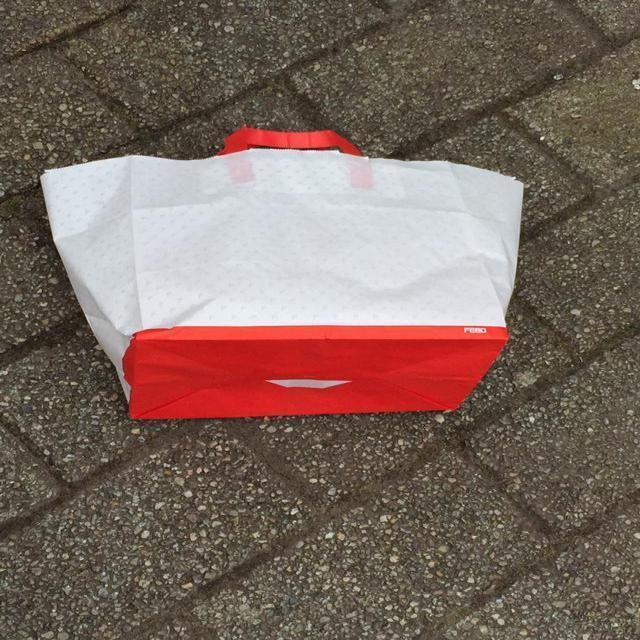Paper: (33, 124, 530, 424)
